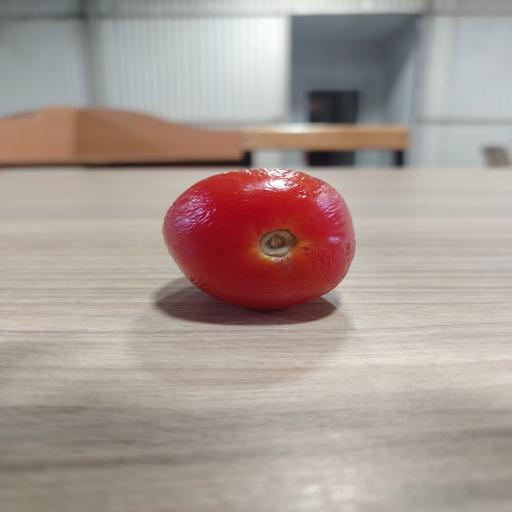spoiled: (163, 169, 355, 309)
